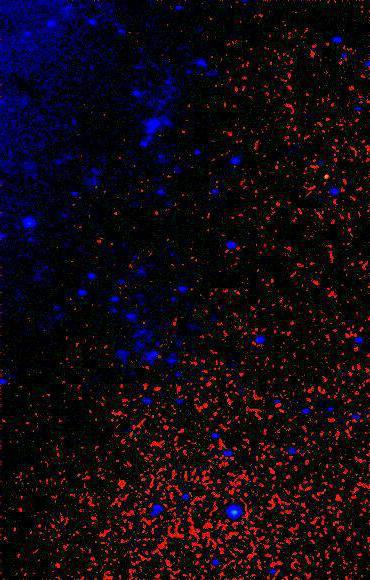star: (312, 159, 342, 189)
